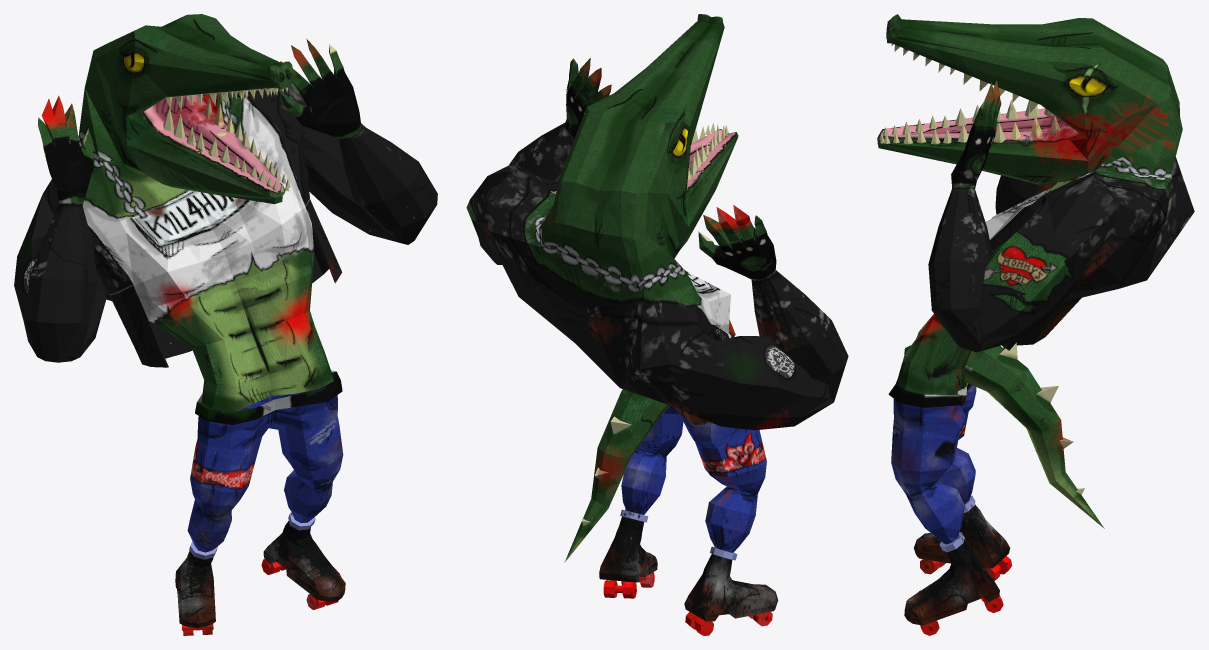
The model's file is cocodrilaBonesSelect_000012.obj.
3 views of the same model, side by side, from view 1: azimuth 30°, elevation 25°; view 2: azimuth 150°, elevation 25°; view 3: azimuth 270°, elevation 25° (orthographic). The views are drawn at different scales.
Parts seen in each view (by area): view 1: Crocodile.002_Cylinder.002; view 2: Crocodile.002_Cylinder.002; view 3: Crocodile.002_Cylinder.002.
Part boxes in pixels (x1,y1,x2,y2): Crocodile.002_Cylinder.002: (14,14,437,635); Crocodile.002_Cylinder.002: (466,14,848,635); Crocodile.002_Cylinder.002: (877,14,1194,635).
Bounding box in the file's own units: 4.57 × 6.58 × 3.25.
